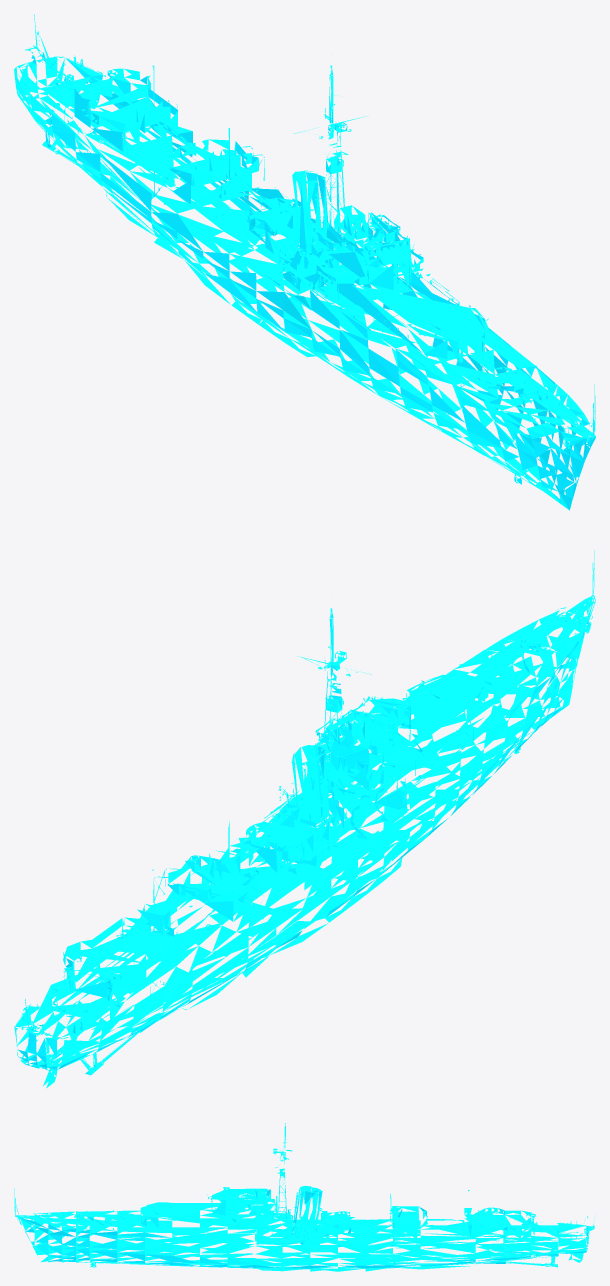
The model's file is Jutland.glb.
3 renders of one model, top to bottom at view 1: azimuth 30°, elevation 25°; view 2: azimuth 150°, elevation 25°; view 3: azimuth 270°, elevation 25°, orthographic. The views are drawn at different scales.
Size of the model in its own units: 0.8153 by 2.23 by 7.81.
